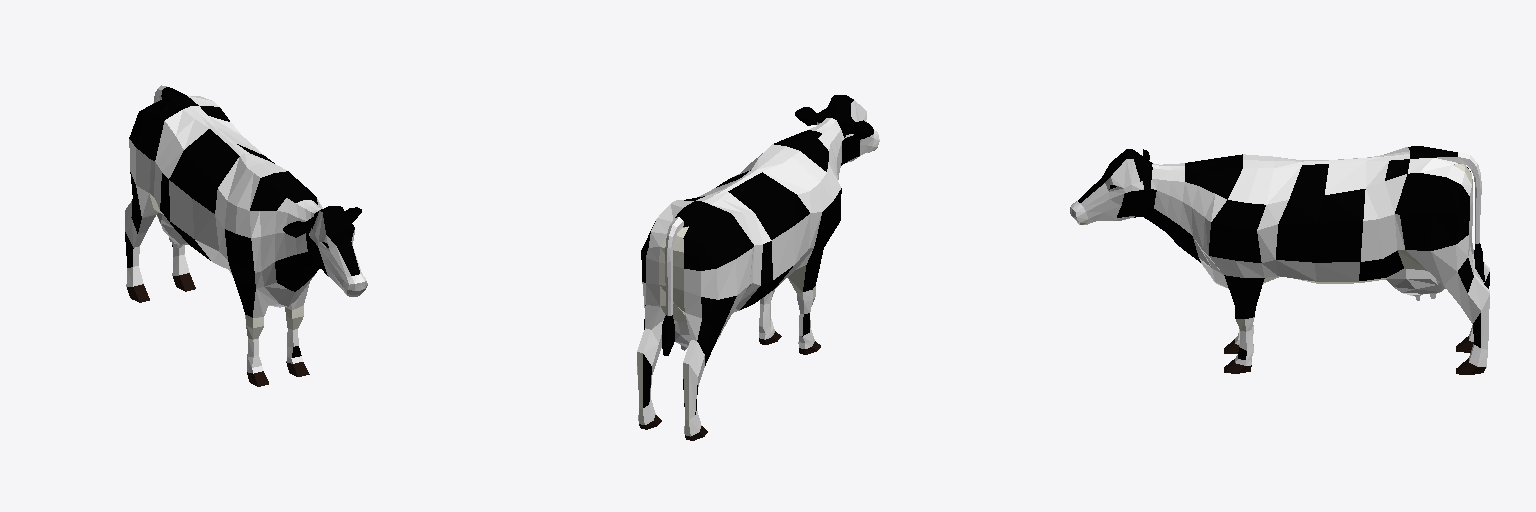
File: cow.obj
3 renders of one model, left to right at view 1: azimuth 30°, elevation 25°; view 2: azimuth 150°, elevation 25°; view 3: azimuth 270°, elevation 25°, orthographic.
Parts seen in each view (by area): view 1: vache; view 2: vache; view 3: vache.
Part boxes in pixels (bbox=[...]): vache: bbox=[125, 85, 367, 386]; vache: bbox=[637, 95, 879, 440]; vache: bbox=[1070, 146, 1489, 374].
Size of the model in its own units: 0.7486 by 1.65 by 3.